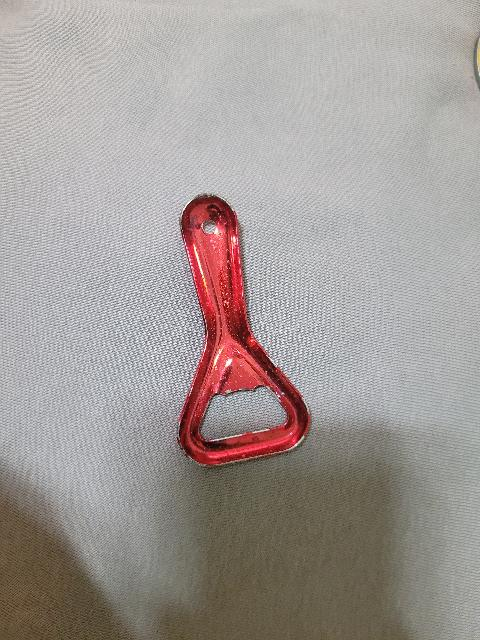Metal: (176, 190, 326, 468)
